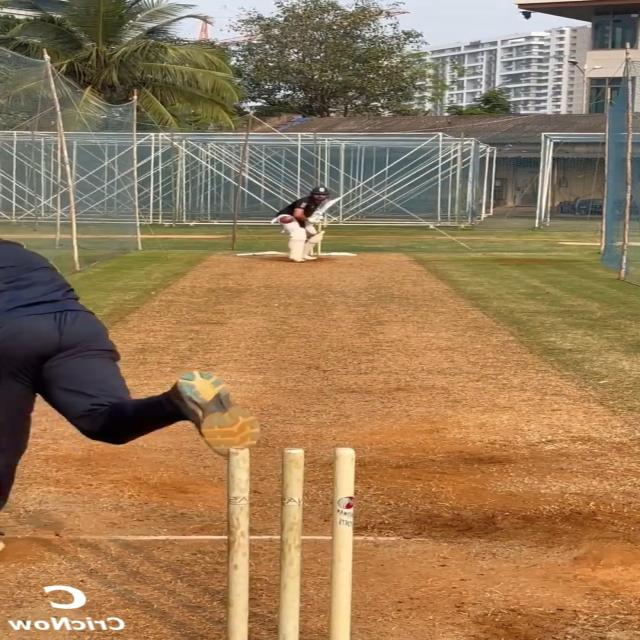ball: (277, 216, 295, 224)
stump: (224, 445, 363, 640)
